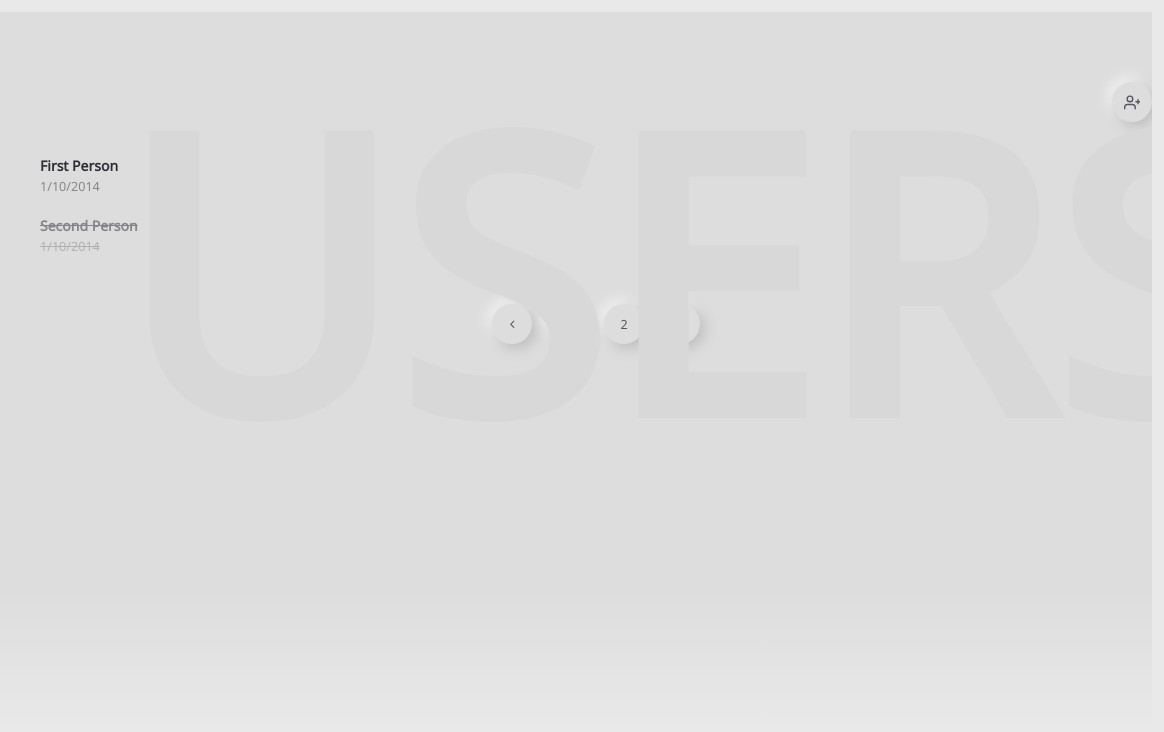
Test: User list › after users request returned › changes page after clicking page 2 button
The image size is (1164, 732).
Click the button "2" at (624, 324), box [604,304,644,344]
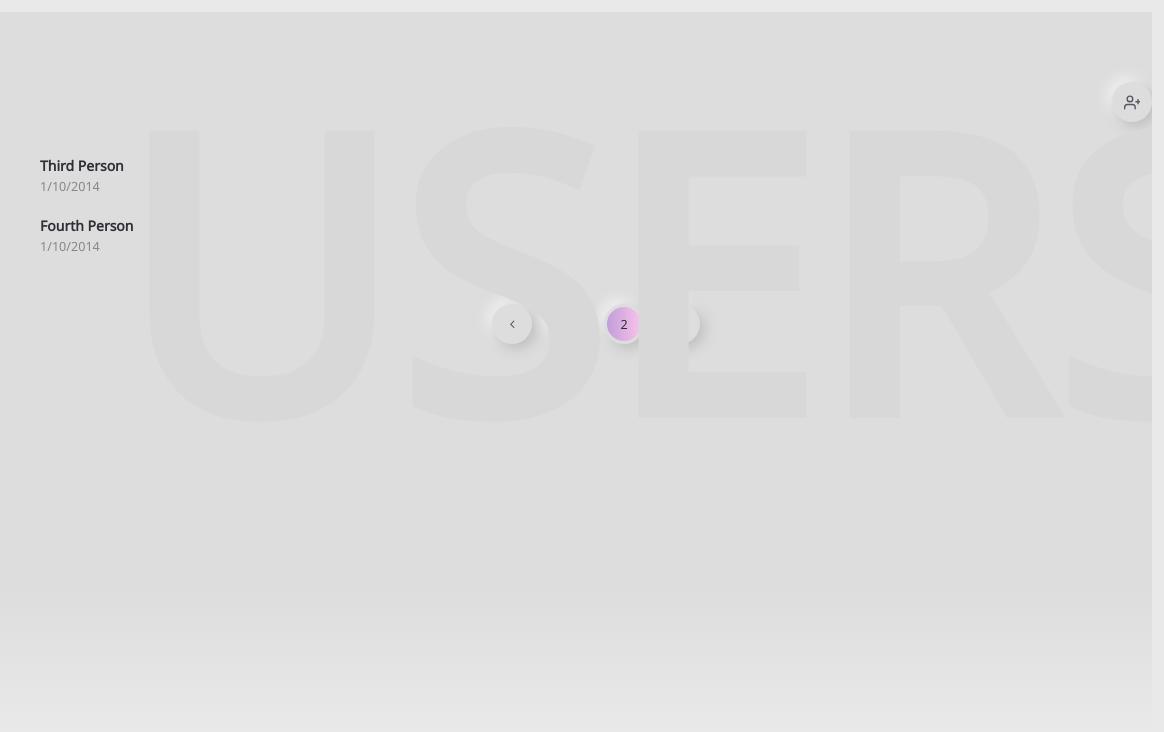
Expected: the text "First Person" is gone
Expected: the text "Second Person" is gone
Expected: the text "Third Person" is shown, [40,156,124,175]
